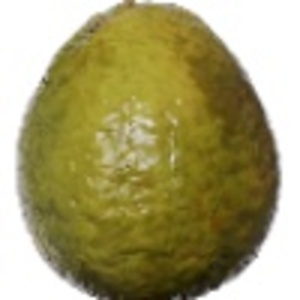goiaba: (7, 3, 285, 294)
